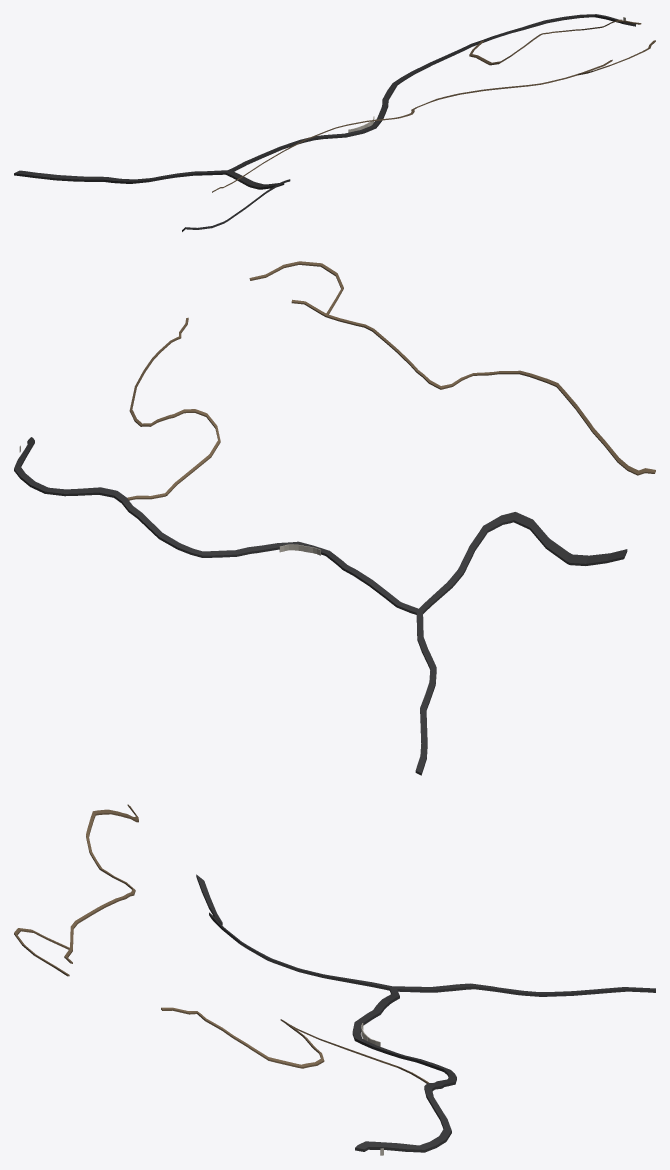
3 views of the same model, one above another, from view 1: azimuth 30°, elevation 25°; view 2: azimuth 150°, elevation 25°; view 3: azimuth 270°, elevation 25° (orthographic). The views are drawn at different scales.
Size of the model in its own units: 294 by 120 by 256.
